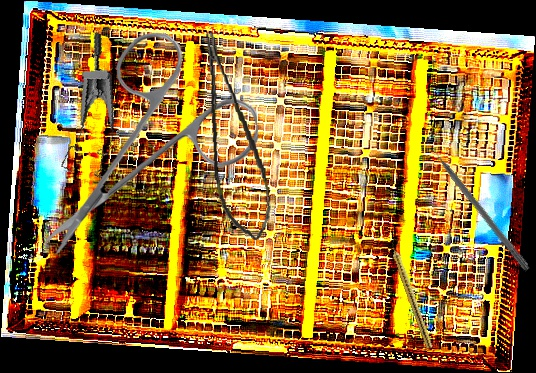Handpiece: (386, 237, 436, 350)
Iris Scissors: (39, 28, 262, 255)
Micro Scissor: (198, 27, 277, 245)
Pusher: (423, 136, 532, 273)
Speculum: (33, 30, 135, 188)
